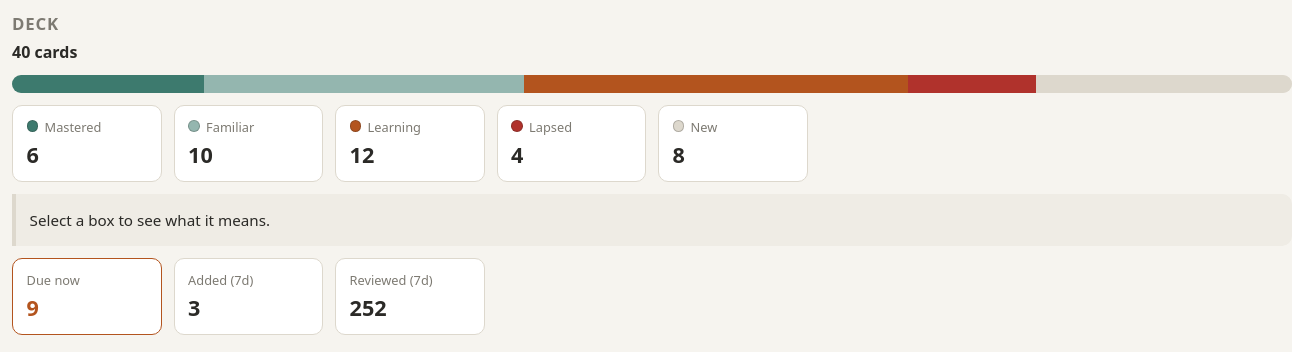
DeckSection › explains only the selected bucket and spotlights its bar segment
The width and height of the screenshot is (1292, 352).
Click the button "Mastered 6" at (87, 144), box [12,105,162,182]
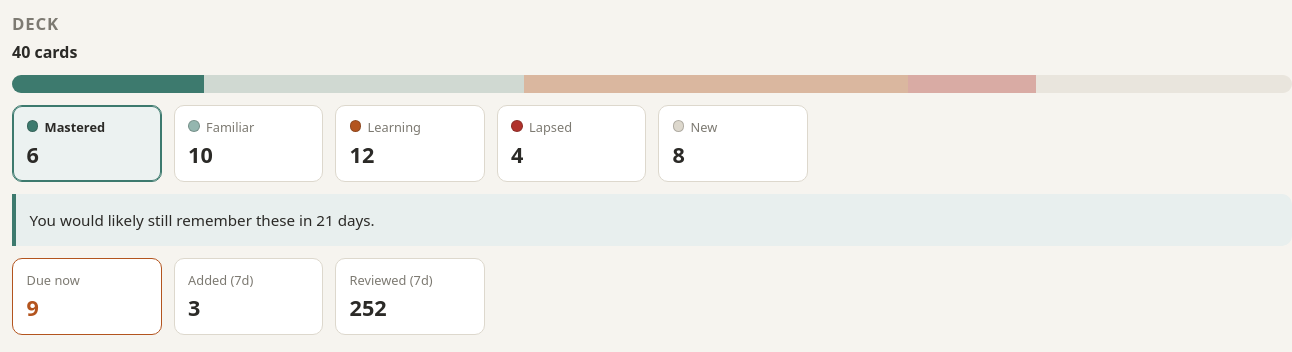
Expected: the number of elements with class "is-selected" is 1, [12,75,204,93]
Result: the message reads "You would likely still remember these in 21 days." at [30,210,375,230]
Click the button "Lapsed 4" at (571, 144), box [496,105,646,182]
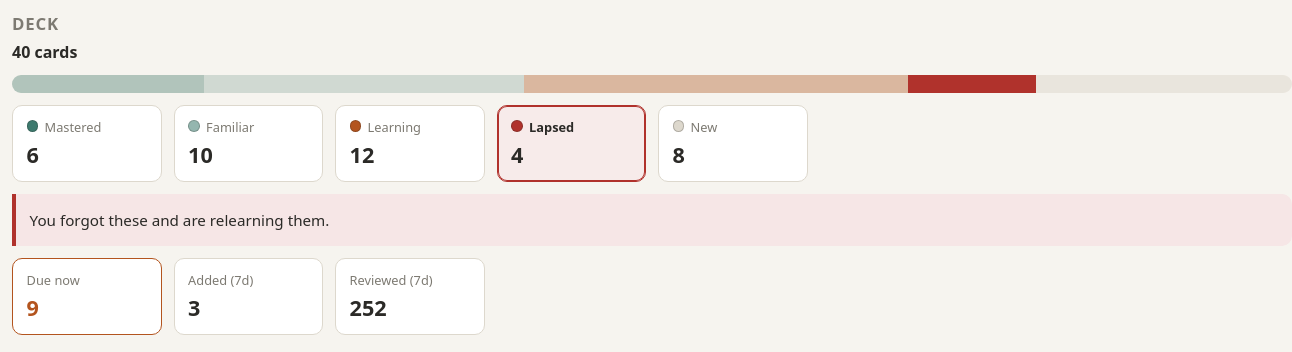
Result: the message reads "You forgot these and are relearning them." at [30,210,329,230]
